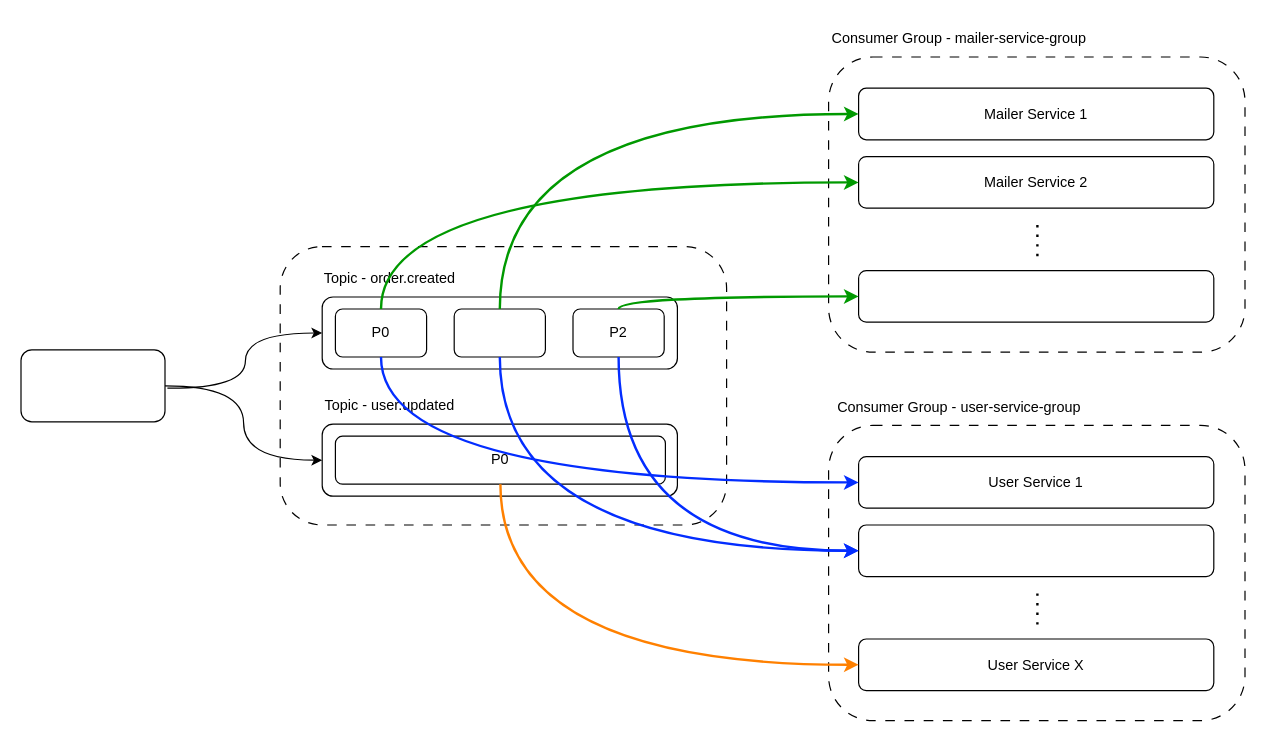
Image size: 1266x742. Some labels were removed from this diagram. Each missing label, with the centre of its shape:
Mailer Service X: the point at 1035,295
Order Service: the point at 92,385
P1: the point at 499,332
User Service 2: the point at 1035,550
